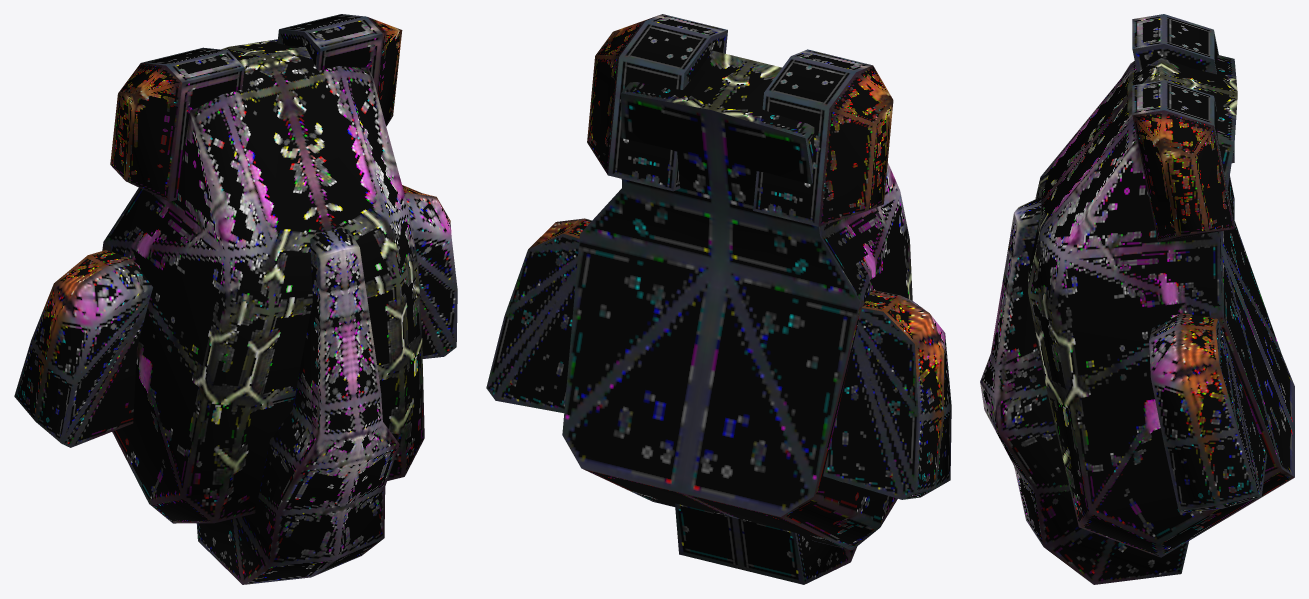
File: ArmorBag_17.obj
3 renders of one model, left to right at view 1: azimuth 30°, elevation 25°; view 2: azimuth 150°, elevation 25°; view 3: azimuth 270°, elevation 25°, orthographic. The views are drawn at different scales.
Parts seen in each view (by area): view 1: ArmorBag_17_00_Bag; view 2: ArmorBag_17_00_Bag; view 3: ArmorBag_17_00_Bag.
Boxes of the visible parts, x1,y1,x2,y2 form: ArmorBag_17_00_Bag: [14, 14, 457, 584]; ArmorBag_17_00_Bag: [486, 14, 951, 584]; ArmorBag_17_00_Bag: [980, 14, 1294, 584].
Bounding box in the file's own units: 0.6228 × 0.733 × 0.4228.
1 material, 1 textured.
